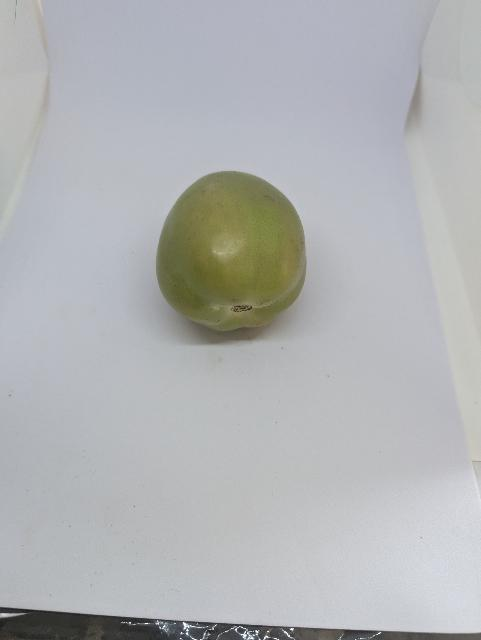green: (147, 160, 315, 342)
